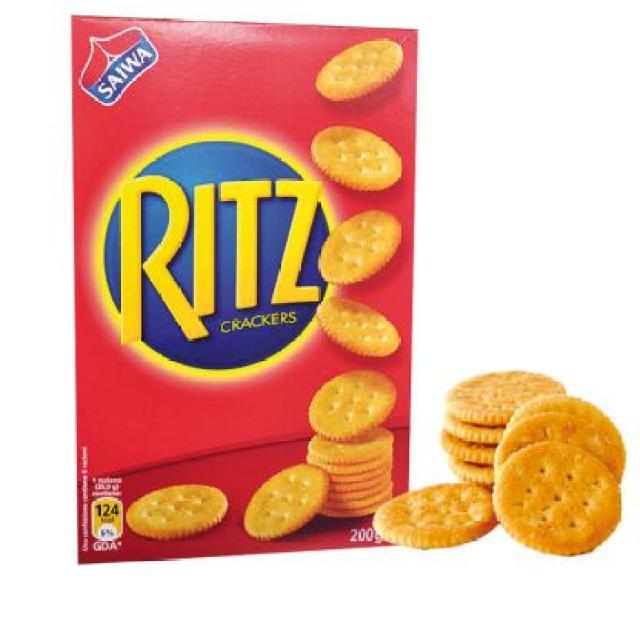Ritz cracker: (61, 6, 422, 572)
Ritz cracker packaged: (381, 368, 628, 564)
